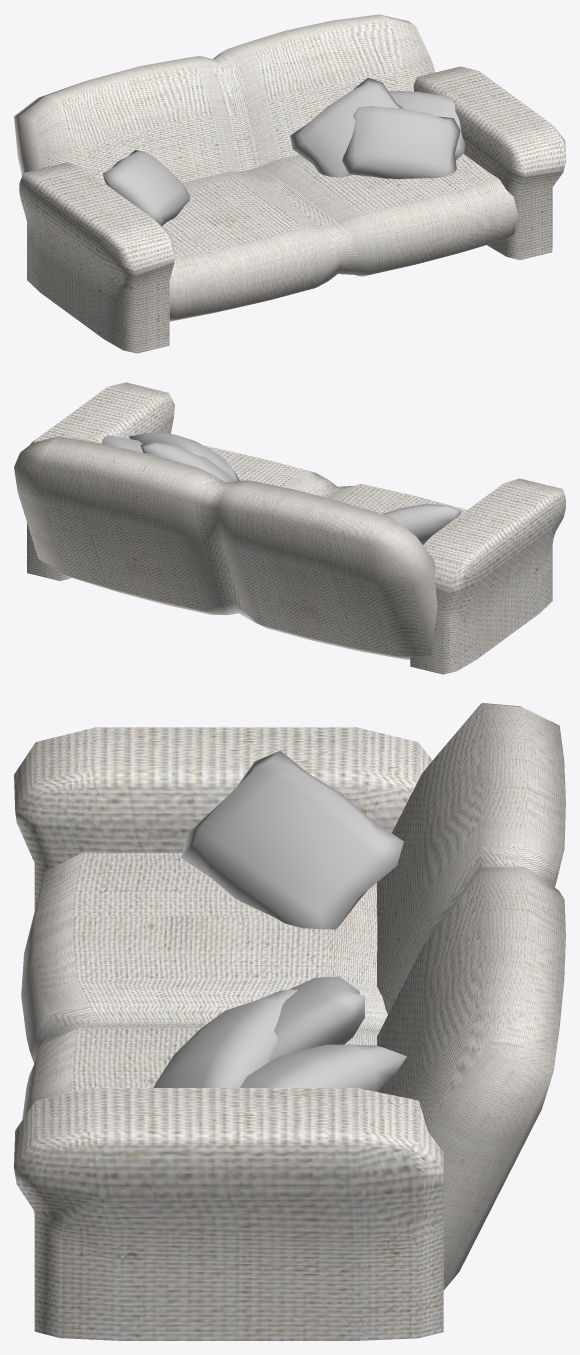
The model's file is Couch.fbx.
3 views of the same model, one above another, from view 1: azimuth 30°, elevation 25°; view 2: azimuth 150°, elevation 25°; view 3: azimuth 270°, elevation 25° (orthographic). The views are drawn at different scales.
Visible parts, largest first — view 1: bake.007; view 2: bake.007; view 3: bake.007.
Part boxes in pixels (bbox=[...]): bake.007: bbox=[14, 14, 565, 353]; bake.007: bbox=[14, 382, 565, 674]; bake.007: bbox=[14, 703, 565, 1340].
Bounding box in the file's own units: 243 × 83.28 × 138.
